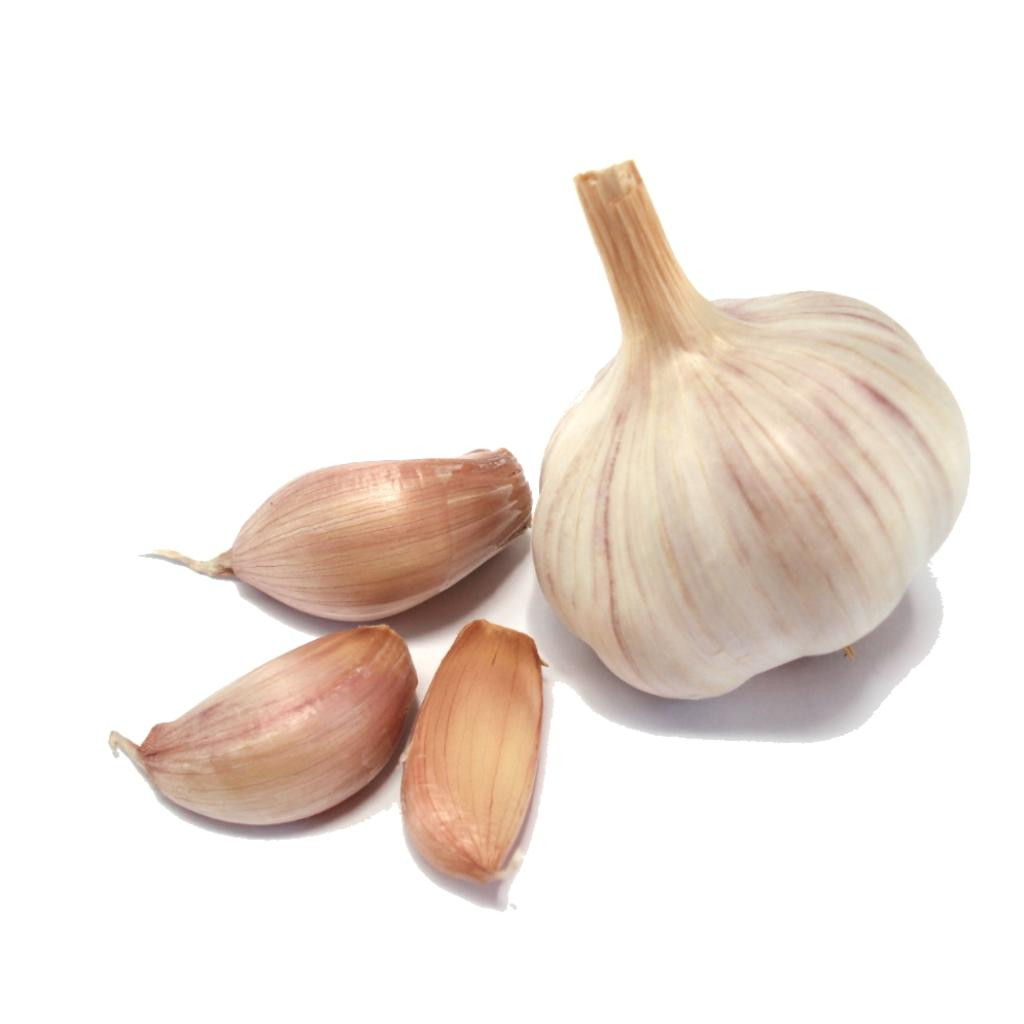garlic: (531, 160, 967, 696), (151, 447, 530, 618), (108, 624, 415, 821), (400, 618, 540, 880)
